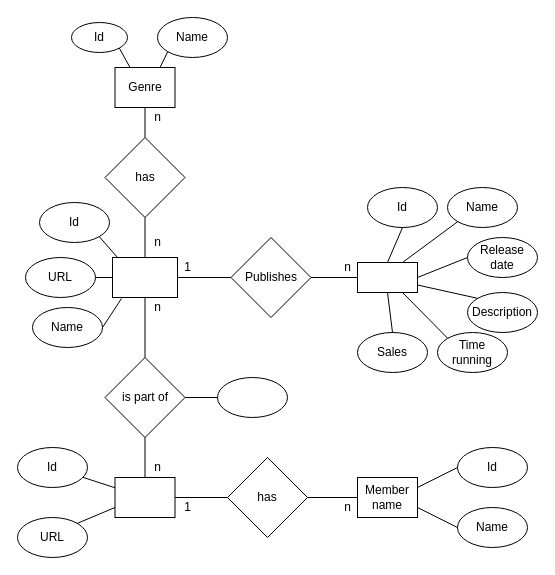
The diagram is 555 pixels wide and 575 high, and some of its shapes have lost their labels. The shapes that lost their labels are listed below. From the top down, each one's centre as x and y in pixels, then its label:
(x=145, y=277): Band
(x=387, y=277): Album
(x=252, y=397): active
(x=144, y=497): Member
